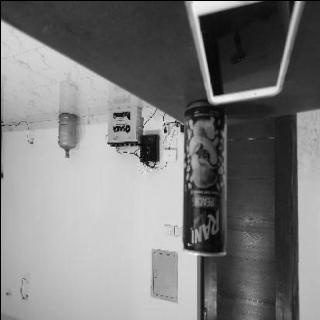alumunium_can: (181, 100, 227, 257)
